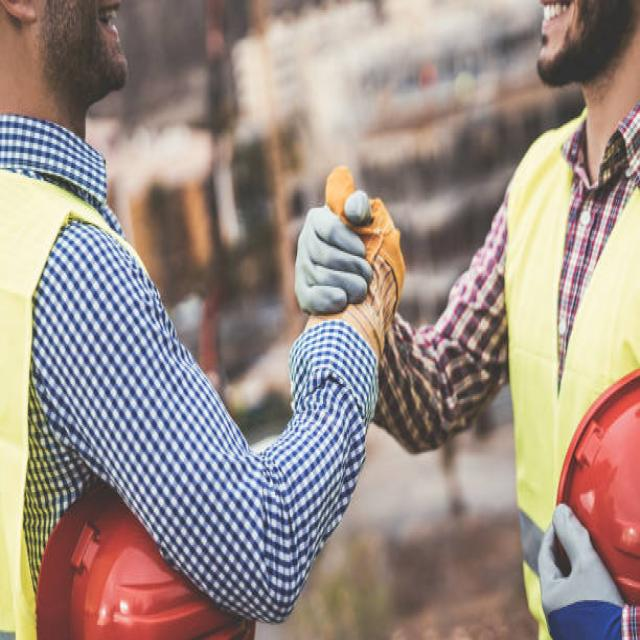Gloves: (291, 164, 411, 366), (533, 496, 640, 640)
Vest: (497, 104, 640, 640), (0, 169, 156, 640)
helmet: (31, 453, 272, 640), (553, 358, 640, 615)
person: (0, 1, 300, 640), (457, 0, 640, 638)
